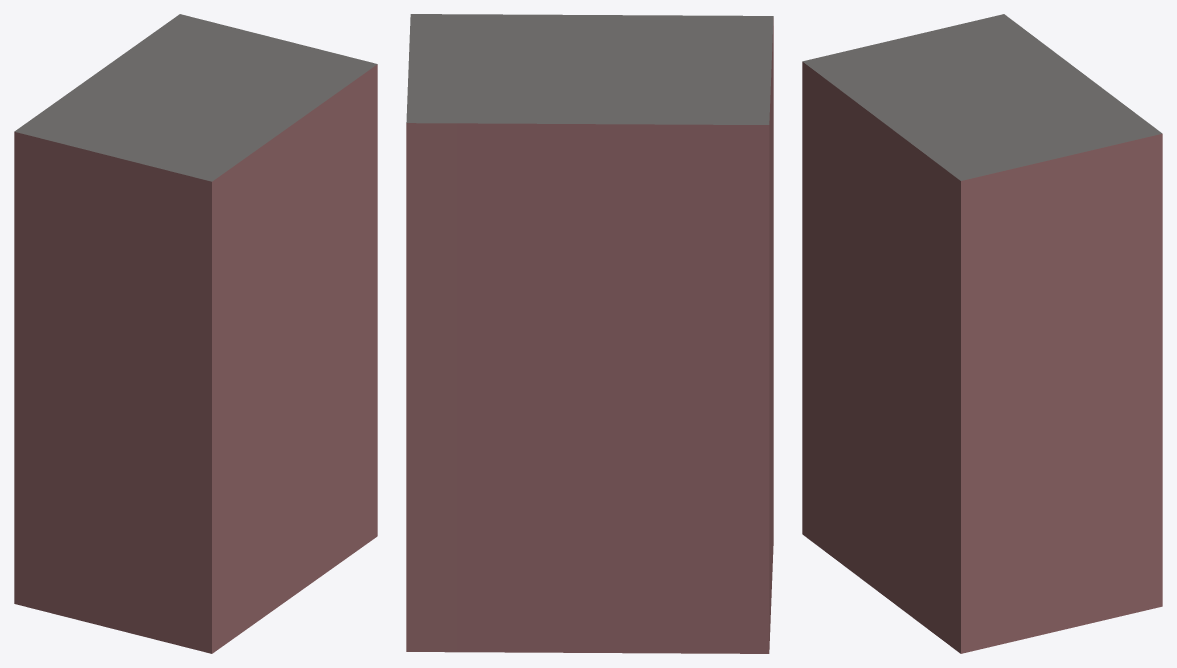
The model's file is nyc-1085096-0.glb.
3 renders of one model, left to right at view 1: azimuth 30°, elevation 25°; view 2: azimuth 150°, elevation 25°; view 3: azimuth 270°, elevation 25°, orthographic. The views are drawn at different scales.
Visible parts, largest first — view 1: nyc-1085096-0; view 2: nyc-1085096-0; view 3: nyc-1085096-0.
Part boxes in pixels (x1,y1,x2,y2): nyc-1085096-0: (14, 14, 377, 653); nyc-1085096-0: (406, 14, 773, 653); nyc-1085096-0: (802, 14, 1162, 653).
Size of the model in its own units: 53.7 by 70.87 by 48.95.
